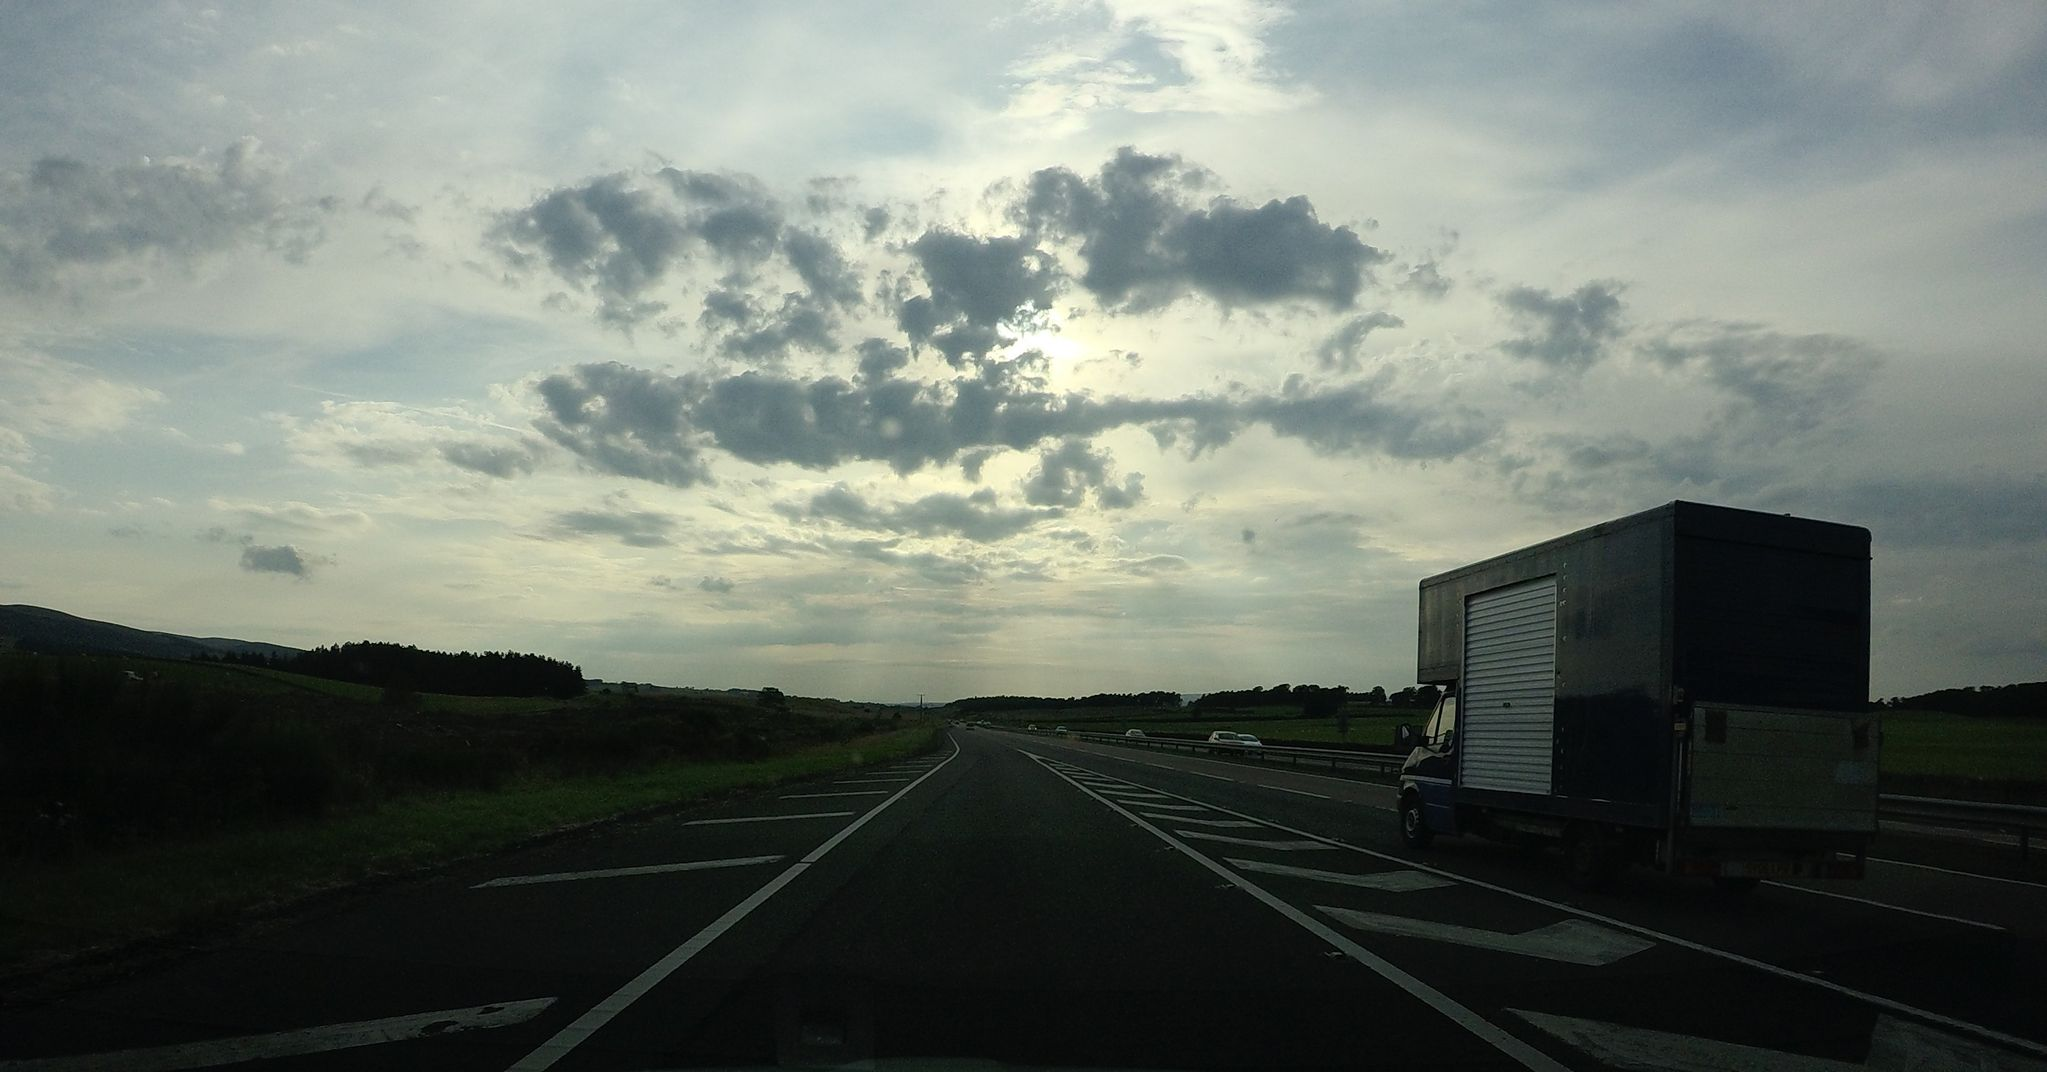car: (1208, 730, 1243, 749), (1236, 734, 1263, 749)
truck: (1386, 498, 1883, 897)
